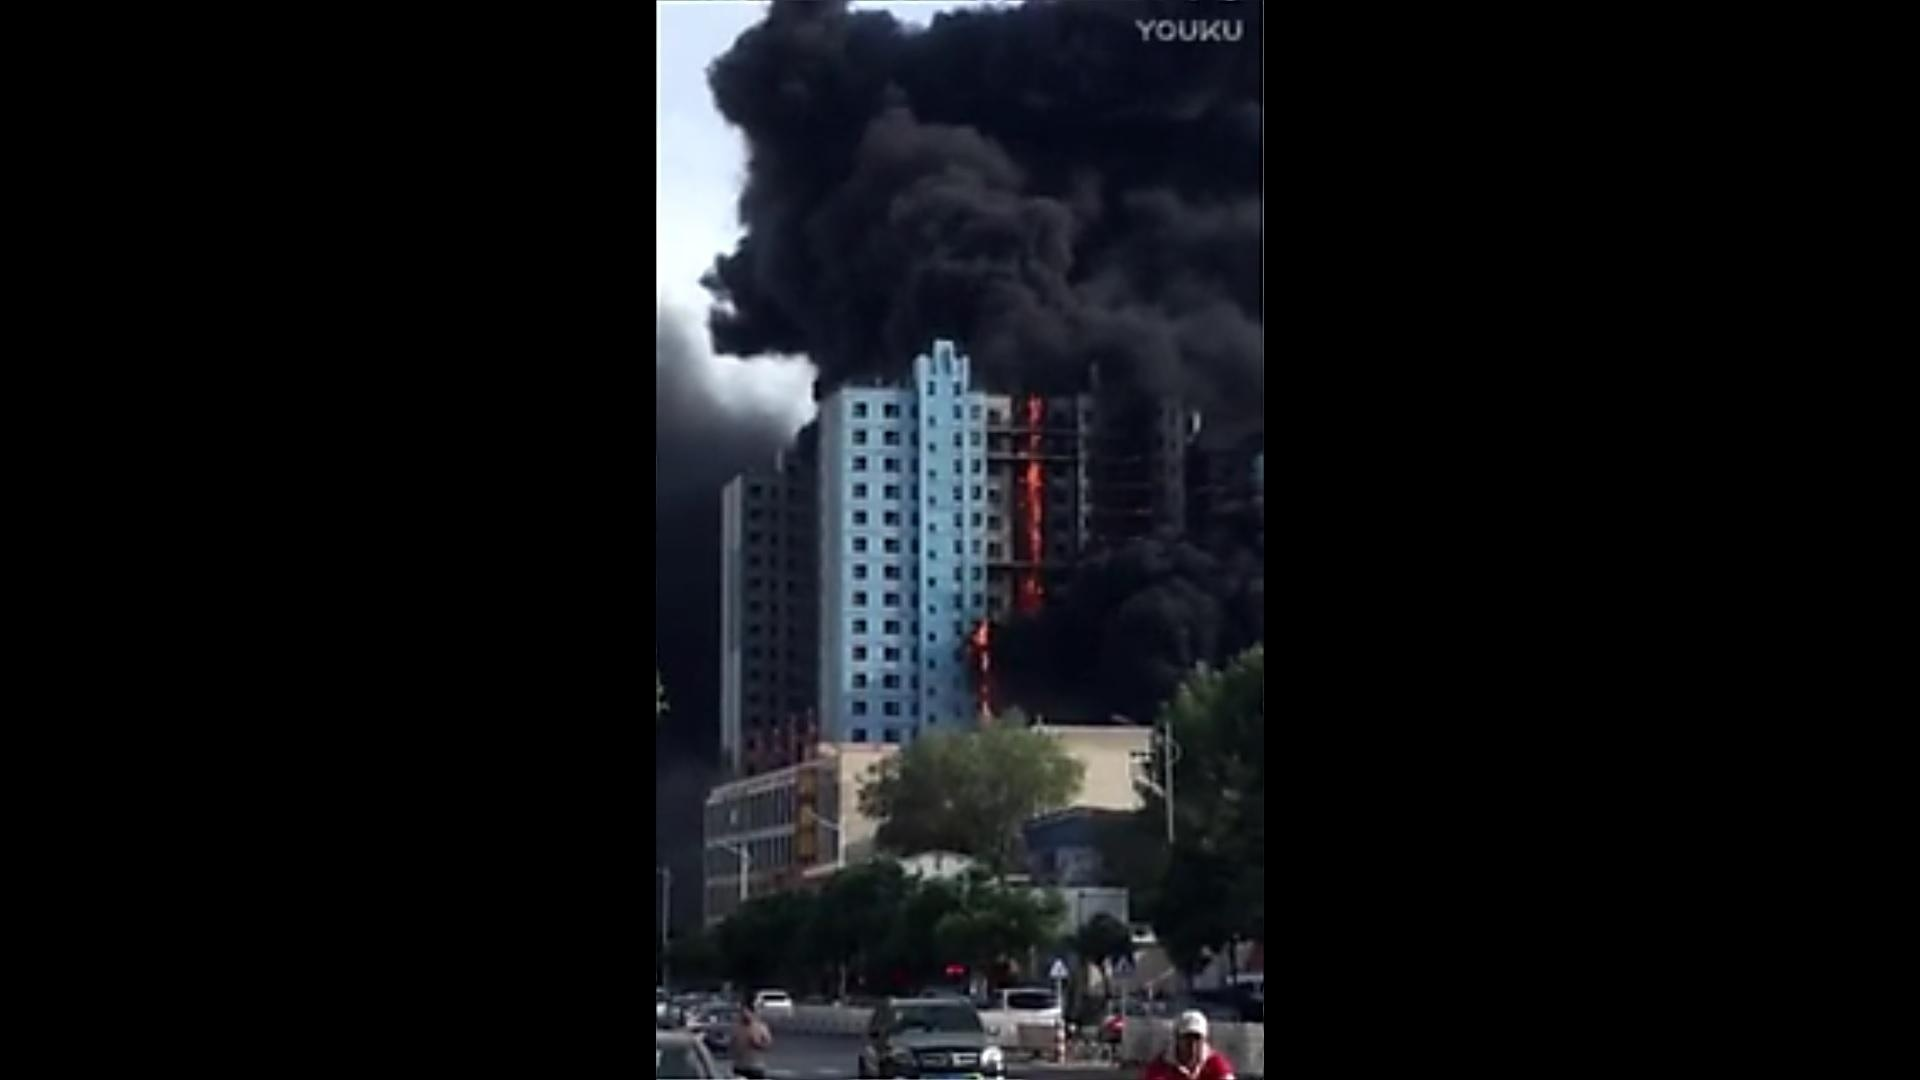fire: (1010, 386, 1054, 597)
